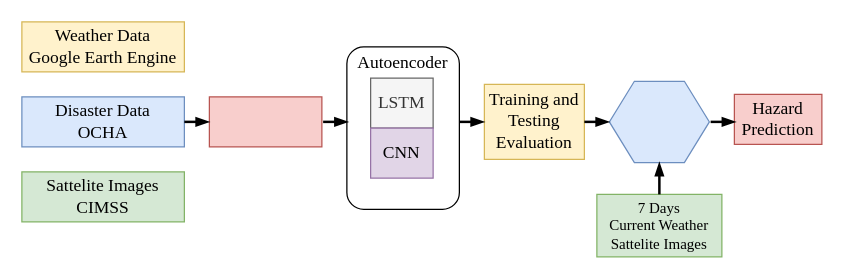
The diagram is 844 pixels wide and 279 high, and some of its shapes have lost their labels. Each missing label, with the box of its shape:
Preprocessing and Merging: (208, 96, 322, 147)
Trained AI Model: (608, 80, 709, 162)
